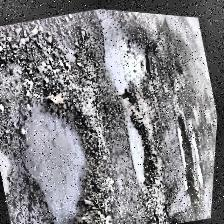pothole: (6, 86, 116, 224), (88, 7, 164, 110), (167, 110, 208, 202), (120, 108, 162, 184), (189, 125, 205, 157), (195, 160, 211, 192)
